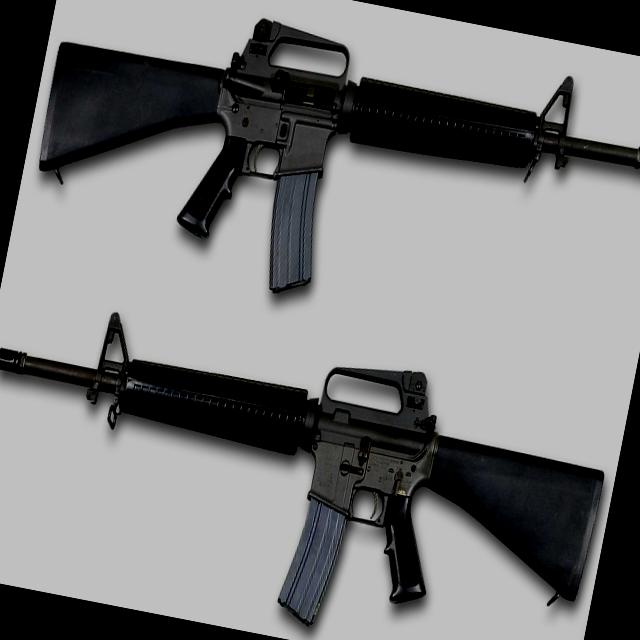long weapon: (0, 284, 624, 635), (23, 0, 639, 327)
